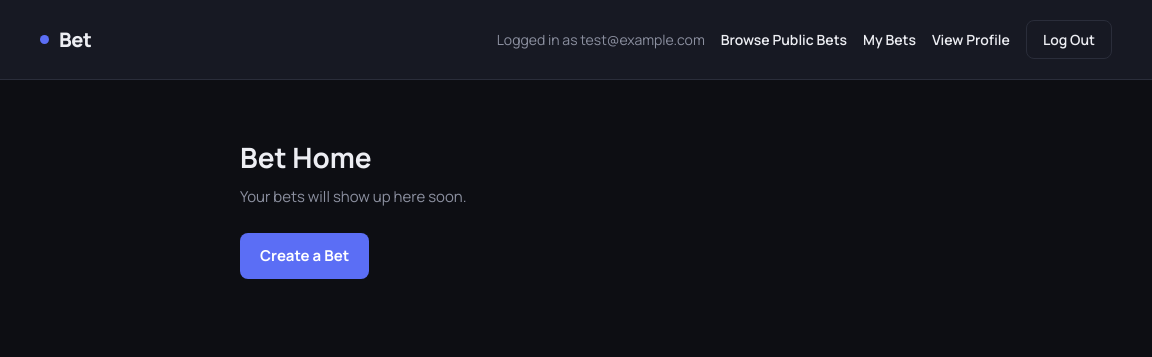
it: HomePage logout › shows an error message when logout fails
Click the button "Log Out": coordinates (1069, 40) [1026, 20, 1112, 59]
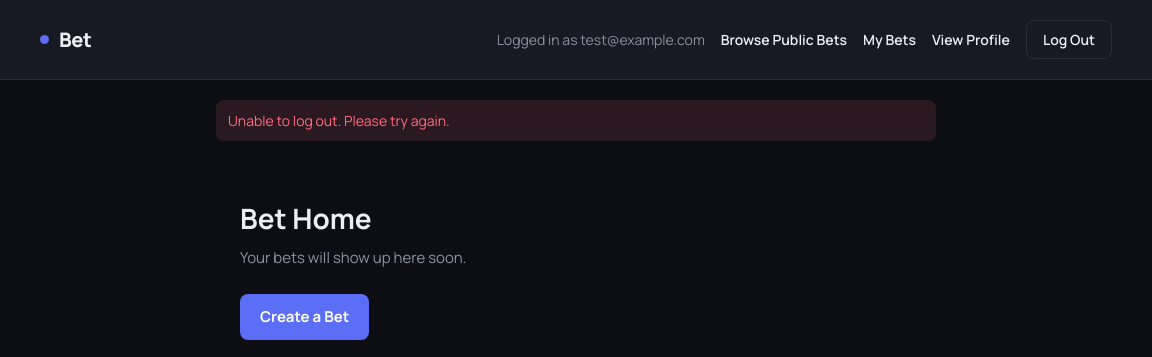
Expected: the message reads "Unable to log out. Please try again.", [228, 111, 450, 130]
